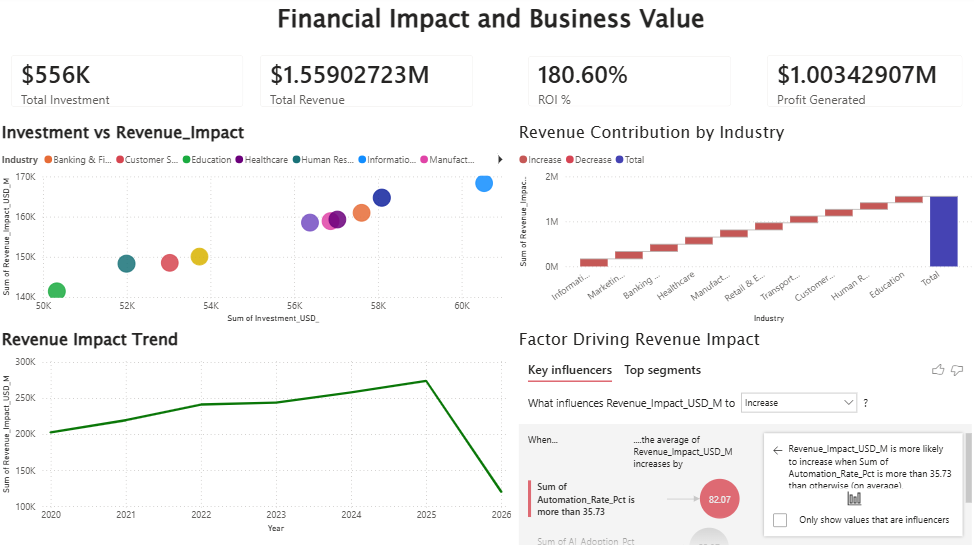

The dashboard page shown, as its layout file describes it:
{"tool":"powerbi","page":{"name":"Financial Impact & Business Value","canvas":[1280,720],"ordinal":2},"visuals":[{"type":"textbox","box":[10.1,0,1269.9,60.5],"z":0},{"type":"cardVisual","fields":{"Data":["AI_Impact_Data.Total Investment"]},"box":[0,60.5,338.4,102.2],"z":1000},{"type":"cardVisual","fields":{"Data":["AI_Impact_Data.Total Revenue"]},"box":[325.4,60.5,313.9,102.2],"z":2000},{"type":"cardVisual","fields":{"Data":["AI_Impact_Data.ROI %"]},"box":[676.8,61.9,301,100.8],"z":3000},{"type":"cardVisual","fields":{"Data":["AI_Impact_Data.Profit Generated"]},"box":[989.3,60.5,290.9,102.2],"z":4000},{"type":"scatterChart","title":"Investment vs Revenue_Impact","fields":{"X":["Sum(AI_Impact_Data.Investment_USD_)"],"Y":["Sum(AI_Impact_Data.Revenue_Impact_USD_M)"],"Size":["Avg(AI_Impact_Data.ROI_Pct)"],"Series":["AI_Impact_Data.Industry"]},"box":[0,162.7,676.8,270.7],"z":5000},{"type":"waterfallChart","title":"Revenue Contribution by Industry","fields":{"Category":["AI_Impact_Data.Industry"],"Y":["Sum(AI_Impact_Data.Revenue_Impact_USD_M)"]},"box":[676.8,162.7,603.4,270.7],"z":6000},{"type":"lineChart","title":"Revenue Impact Trend","fields":{"Category":["AI_Impact_Data.Year"],"Y":["Sum(AI_Impact_Data.Revenue_Impact_USD_M)"]},"box":[0,433.4,676.8,273.6],"z":7000},{"type":"keyDriversVisual","title":"Factor Driving Revenue Impact","fields":{"Target":["AI_Impact_Data.Revenue_Impact_USD_M"],"ExplainBy":["AI_Impact_Data.Industry","AI_Impact_Data.Country","AI_Impact_Data.AI_Technology","Sum(AI_Impact_Data.AI_Adoption_Pct)","Sum(AI_Impact_Data.Automation_Rate_Pct)","Sum(AI_Impact_Data.Productivity_Gain_Pct)"]},"box":[676.8,433.4,603.4,286.6],"z":8000}]}

Visuals, with their boxes in screenshot pixels (x1, y1, x2, y2), scaled from the page's 1280x720 canvas onto the 974x545 screenshot:
textbox: box=[8, 0, 973, 46]
cardVisual - AI_Impact_Data.Total Investment: box=[0, 46, 258, 123]
cardVisual - AI_Impact_Data.Total Revenue: box=[248, 46, 486, 123]
cardVisual - AI_Impact_Data.ROI %: box=[515, 47, 744, 123]
cardVisual - AI_Impact_Data.Profit Generated: box=[753, 46, 973, 123]
"Investment vs Revenue_Impact" scatterChart: box=[0, 123, 515, 328]
"Revenue Contribution by Industry" waterfallChart: box=[515, 123, 973, 328]
"Revenue Impact Trend" lineChart: box=[0, 328, 515, 535]
"Factor Driving Revenue Impact" keyDriversVisual: box=[515, 328, 973, 544]
